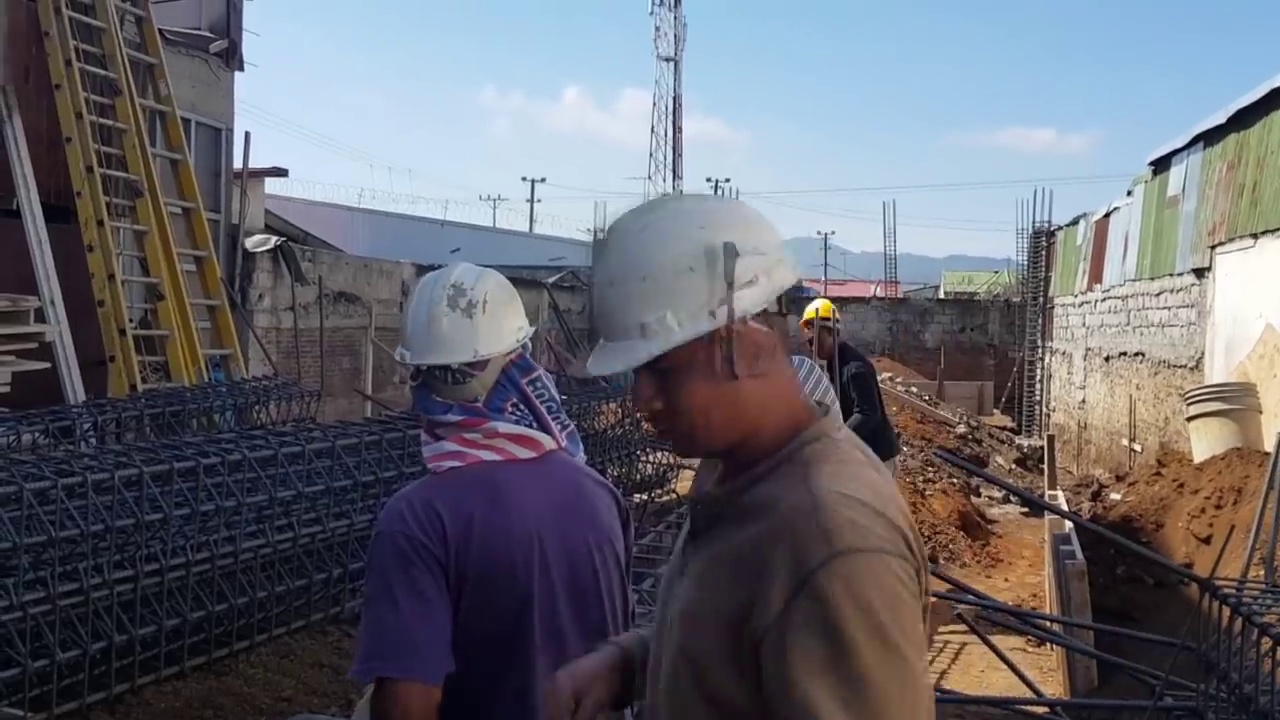helmet: (579, 192, 793, 374), (396, 258, 534, 370), (801, 295, 842, 326)
helmet-on: (578, 184, 823, 471), (391, 254, 562, 455), (799, 301, 843, 362)
person: (568, 212, 941, 707), (352, 236, 639, 717), (781, 291, 893, 448)
